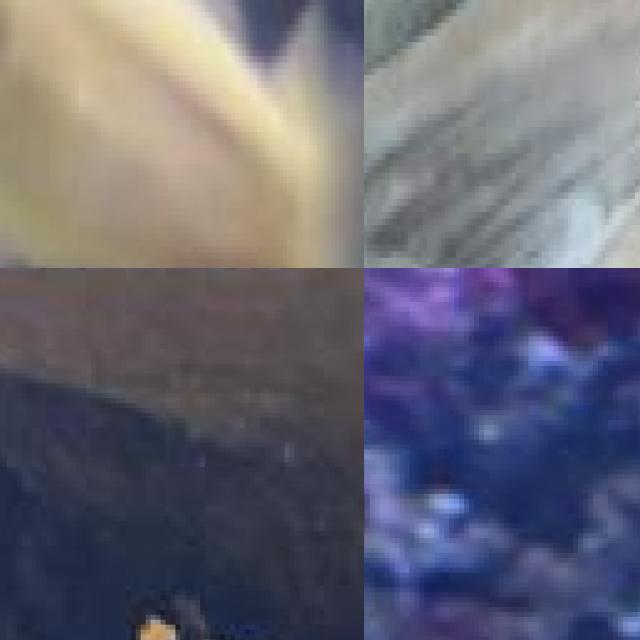fish: (0, 0, 364, 268), (364, 0, 640, 268)
